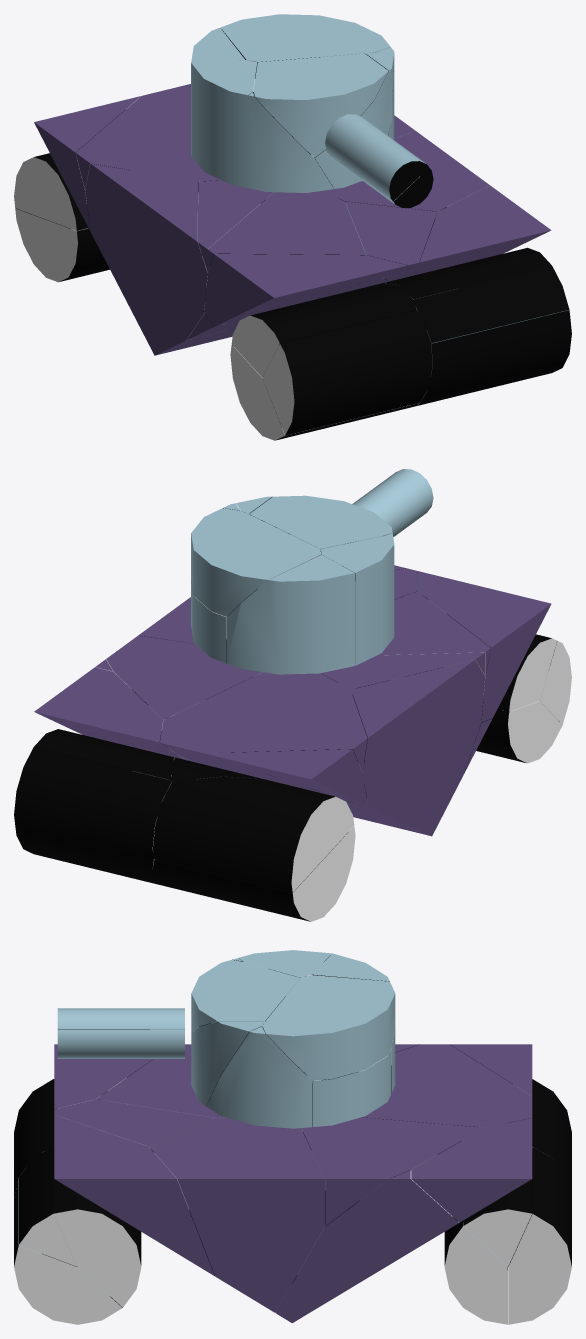
Rendered from SM_Enemy_fractured.glb.
3 renders of one model, top to bottom at view 1: azimuth 30°, elevation 25°; view 2: azimuth 150°, elevation 25°; view 3: azimuth 270°, elevation 25°, orthographic.
Visible parts, largest first — view 1: enemy_fractured_cell.019, enemy_fractured_cell.005, enemy_fractured_cell.002, enemy_fractured_cell.016, enemy_fractured_cell.008, enemy_fractured_cell.031, enemy_fractured_cell.027, enemy_fractured_cell.006, enemy_fractured_cell.012, enemy_fractured_cell.021, enemy_fractured_cell.004, enemy_fractured_cell.013 (+14 smaller); view 2: enemy_fractured_cell.035, enemy_fractured_cell.019, enemy_fractured_cell, enemy_fractured_cell.027, enemy_fractured_cell.010, enemy_fractured_cell.013, enemy_fractured_cell.002, enemy_fractured_cell.025, enemy_fractured_cell.003, enemy_fractured_cell.007, enemy_fractured_cell.006, enemy_fractured_cell.016 (+12 smaller); view 3: enemy_fractured_cell.033, enemy_fractured_cell.001, enemy_fractured_cell.004, enemy_fractured_cell.013, enemy_fractured_cell.027, enemy_fractured_cell.025, enemy_fractured_cell, enemy_fractured_cell.007, enemy_fractured_cell.015, enemy_fractured_cell.022, enemy_fractured_cell.008, enemy_fractured_cell.016 (+16 smaller).
Boxes of the visible parts, <box> form: enemy_fractured_cell.019: <box>85,163,235,355</box>; enemy_fractured_cell.005: <box>262,310,432,435</box>; enemy_fractured_cell.002: <box>204,253,407,326</box>; enemy_fractured_cell.016: <box>253,53,388,157</box>; enemy_fractured_cell.008: <box>417,310,571,405</box>; enemy_fractured_cell.031: <box>207,190,388,302</box>; enemy_fractured_cell.027: <box>75,85,220,189</box>; enemy_fractured_cell.006: <box>191,60,257,187</box>; enemy_fractured_cell.012: <box>413,266,569,343</box>; enemy_fractured_cell.021: <box>231,283,416,377</box>; enemy_fractured_cell.004: <box>389,185,551,281</box>; enemy_fractured_cell.013: <box>220,14,390,62</box>; enemy_fractured_cell.035: <box>153,776,354,892</box>; enemy_fractured_cell.019: <box>347,660,484,836</box>; enemy_fractured_cell: <box>14,747,171,885</box>; enemy_fractured_cell.027: <box>160,672,367,802</box>; enemy_fractured_cell.010: <box>226,555,354,674</box>; enemy_fractured_cell.013: <box>191,508,320,616</box>; enemy_fractured_cell.002: <box>417,571,551,722</box>; enemy_fractured_cell.025: <box>106,635,262,762</box>; enemy_fractured_cell.003: <box>153,826,355,921</box>; enemy_fractured_cell.007: <box>34,667,178,755</box>; enemy_fractured_cell.006: <box>320,536,394,665</box>; enemy_fractured_cell.016: <box>249,495,392,549</box>; enemy_fractured_cell.033: <box>149,1117,324,1312</box>; enemy_fractured_cell.001: <box>276,1170,459,1323</box>; enemy_fractured_cell.004: <box>54,1115,214,1276</box>; enemy_fractured_cell.013: <box>262,975,395,1080</box>; enemy_fractured_cell.027: <box>362,1044,532,1127</box>; enemy_fractured_cell.025: <box>301,1117,483,1227</box>; enemy_fractured_cell: <box>508,1147,571,1324</box>; enemy_fractured_cell.007: <box>411,1118,532,1222</box>; enemy_fractured_cell.015: <box>206,1026,312,1128</box>; enemy_fractured_cell.022: <box>53,1146,141,1307</box>; enemy_fractured_cell.008: <box>14,1178,122,1324</box>; enemy_fractured_cell.016: <box>191,960,300,1033</box>.
Bounding box in the file's own units: 2 × 1.83 × 3.5.
Materials: 1 (1 with a texture image).
